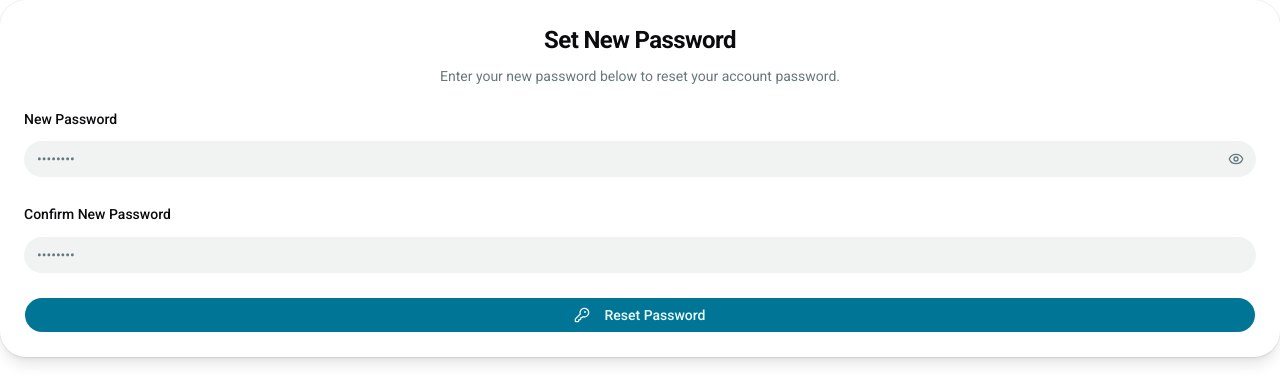
Test: ResetPasswordPage Component › handles successful password reset
Type "newsecret123" into the password field labelled "New Password" at (640, 159), box top-left (24, 141), bottom-right (1256, 177)
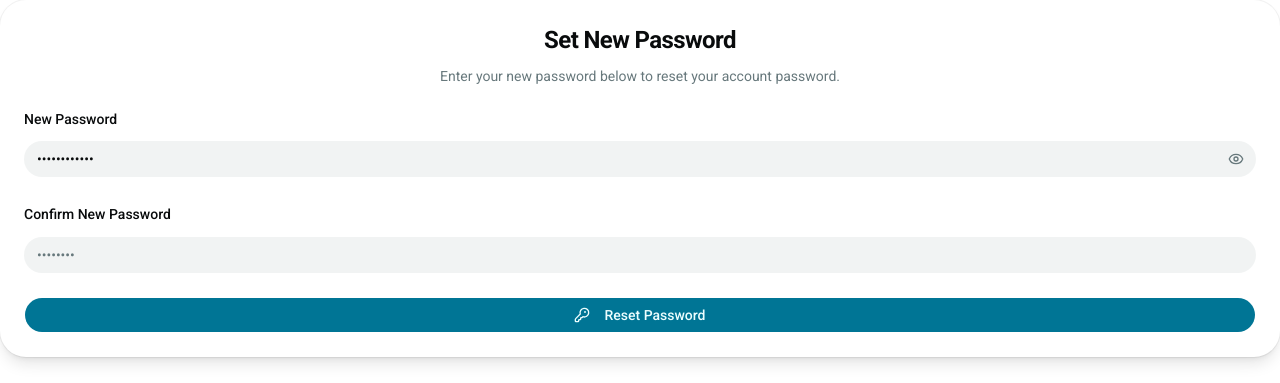
Type "newsecret123" into the password field labelled "Confirm New Password" at (640, 254), box top-left (24, 236), bottom-right (1256, 272)
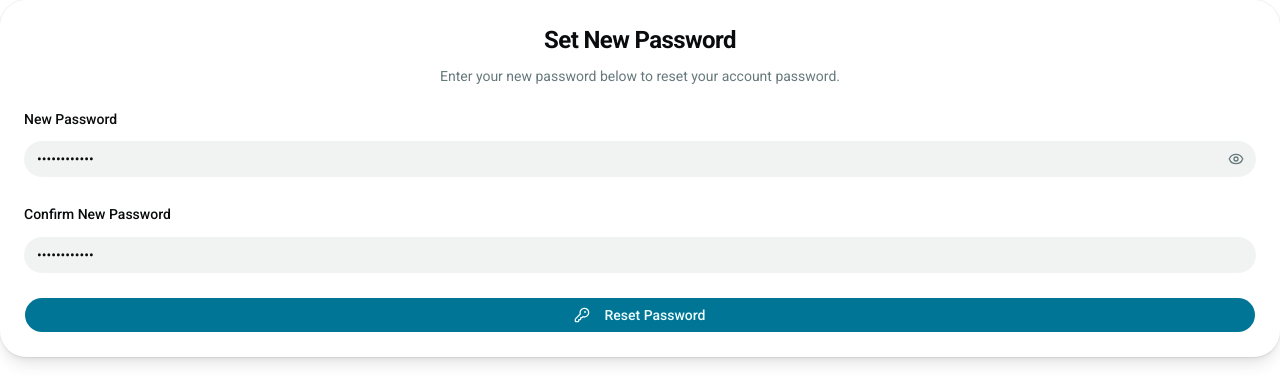
Click the button "Reset Password" at (640, 314), box top-left (24, 296), bottom-right (1256, 332)
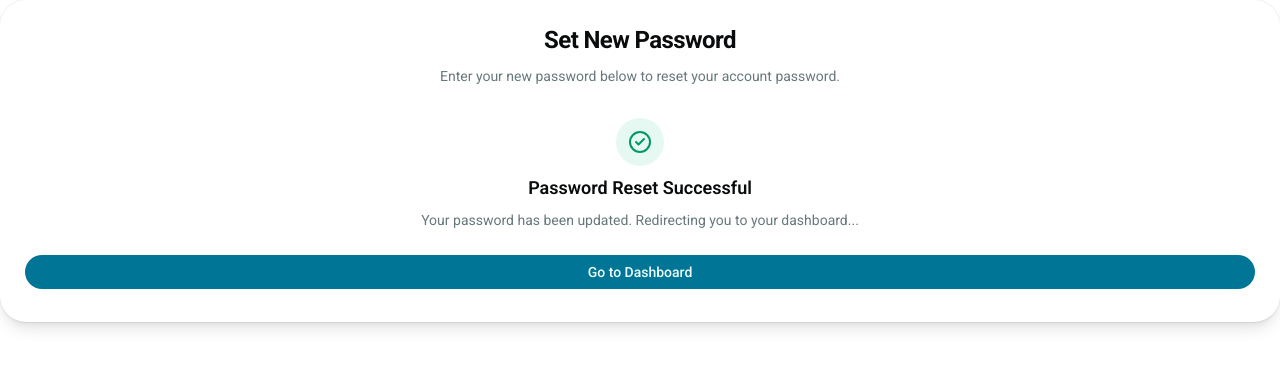
Expected: the heading "Password Reset Successful" is shown, top-left (528, 174), bottom-right (752, 202)
